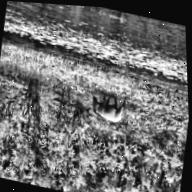boar: (77, 84, 145, 133)
